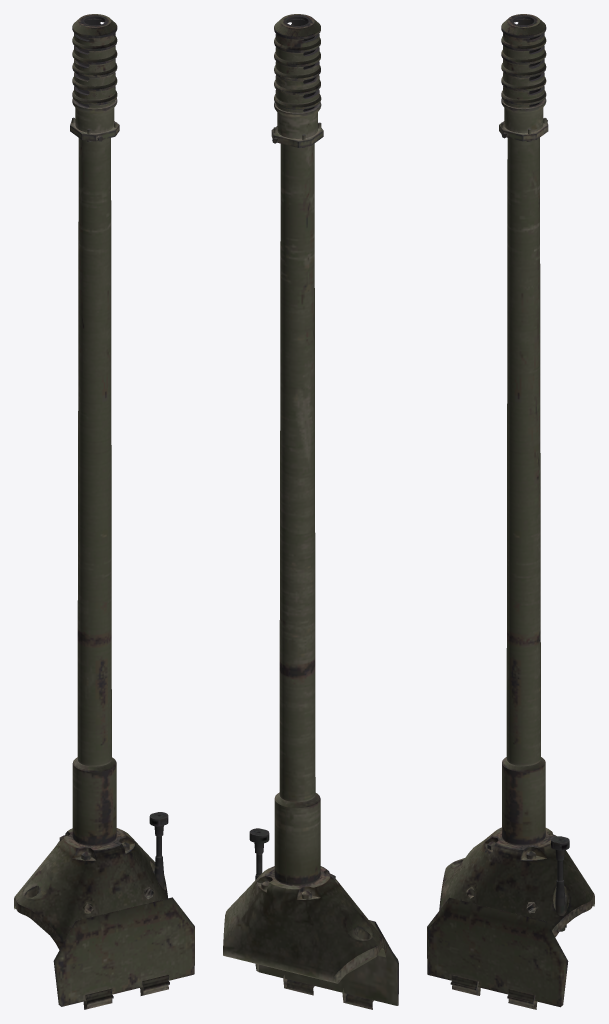
Rendered from Gun_01.glb.
3 renders of one model, left to right at view 1: azimuth 30°, elevation 25°; view 2: azimuth 150°, elevation 25°; view 3: azimuth 330°, elevation 25°, orthographic. The views are drawn at different scales.
Visible parts, largest first — view 1: set_0_group_0; view 2: set_0_group_0; view 3: set_0_group_0.
Part boxes in pixels (bbox=[...]): set_0_group_0: bbox=[14, 14, 194, 1009]; set_0_group_0: bbox=[223, 14, 398, 1009]; set_0_group_0: bbox=[427, 14, 594, 1009].
Bounding box in the file's own units: 0.9208 × 5.66 × 0.6014.
1 material, 1 textured.
